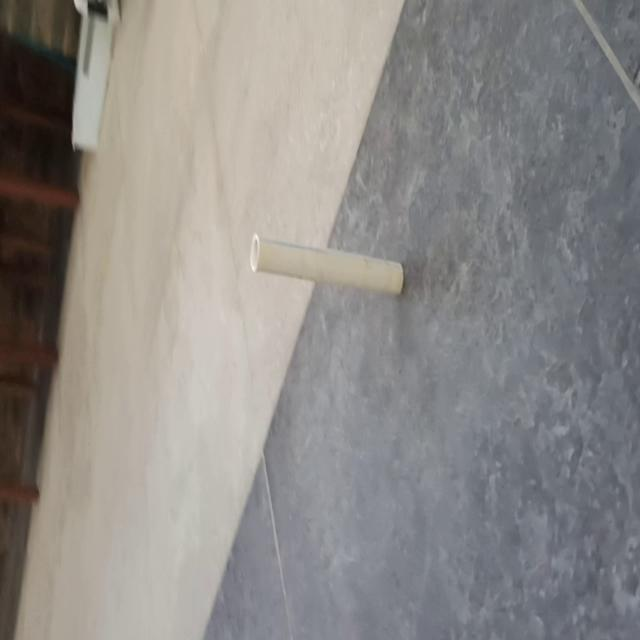Cube: (249, 230, 405, 298)
